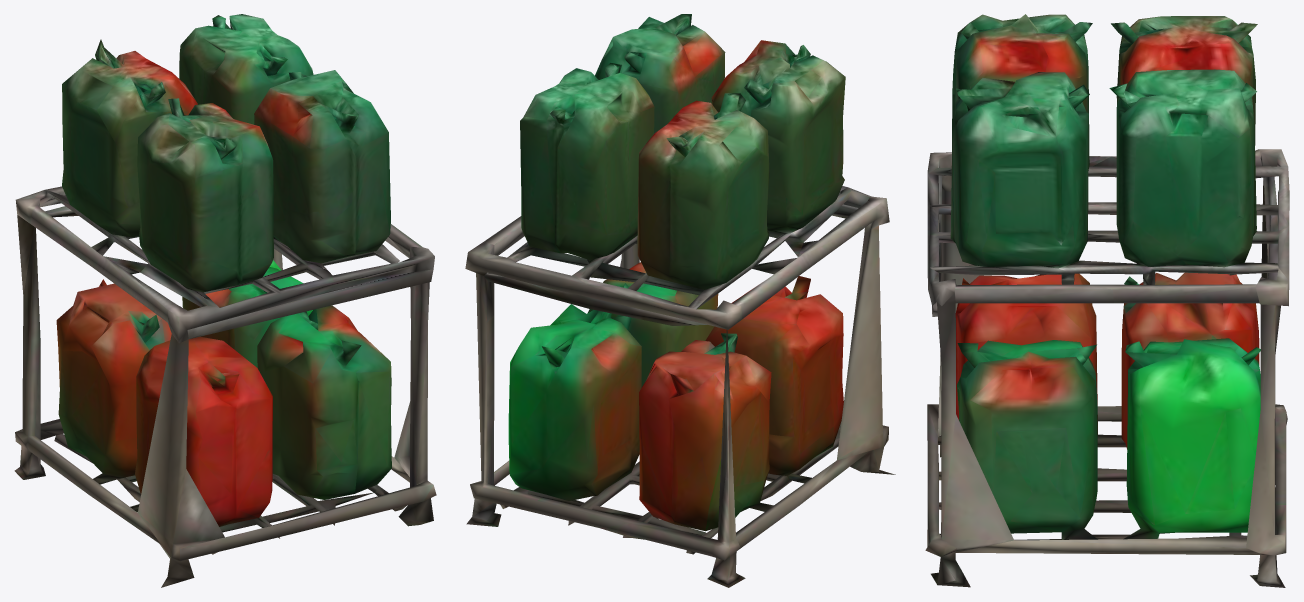
The model's file is gr_jerryrack.glb.
3 views of the same model, side by side, from view 1: azimuth 30°, elevation 25°; view 2: azimuth 150°, elevation 25°; view 3: azimuth 270°, elevation 25° (orthographic). The views are drawn at different scales.
Parts seen in each view (by area): view 1: tripo_node_84c41712-d77e-40f5-aea3-3945d91aade2; view 2: tripo_node_84c41712-d77e-40f5-aea3-3945d91aade2; view 3: tripo_node_84c41712-d77e-40f5-aea3-3945d91aade2.
Boxes of the visible parts, x1=… form: tripo_node_84c41712-d77e-40f5-aea3-3945d91aade2: x1=14, y1=14, x2=436, y2=587; tripo_node_84c41712-d77e-40f5-aea3-3945d91aade2: x1=465, y1=14, x2=895, y2=587; tripo_node_84c41712-d77e-40f5-aea3-3945d91aade2: x1=925, y1=14, x2=1289, y2=587.
Size of the model in its own units: 0.6793 by 1 by 0.7105.
Materials: 1 (1 with a texture image).
